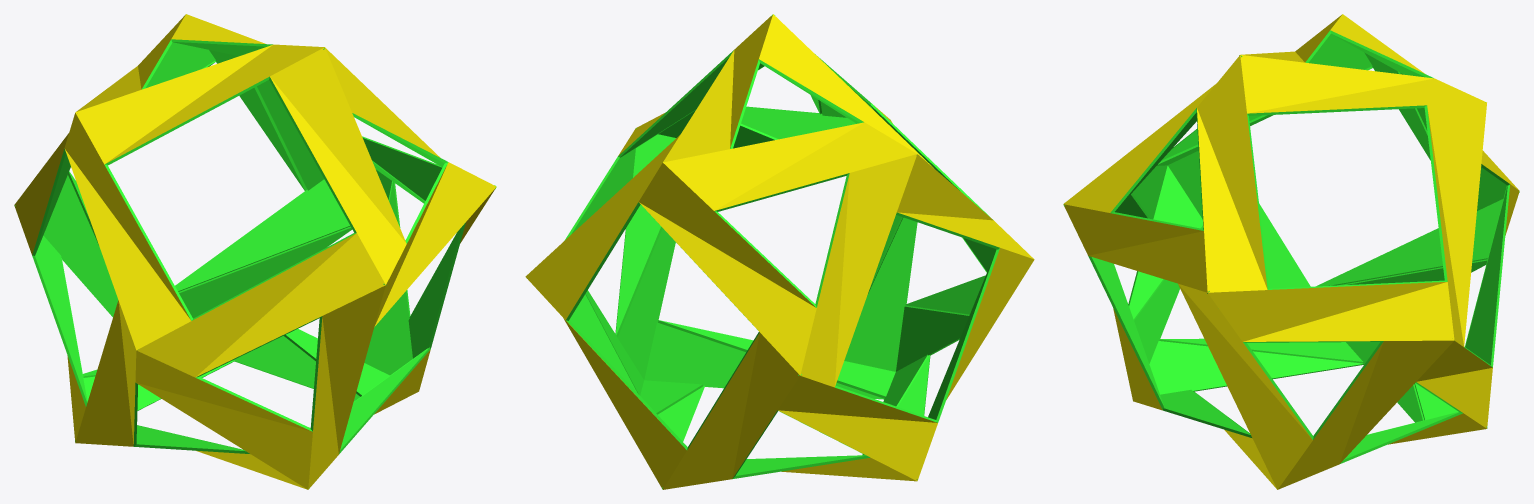
Rendered from TriangularOrthobicupola.glb.
3 views of the same model, side by side, from view 1: azimuth 30°, elevation 25°; view 2: azimuth 150°, elevation 25°; view 3: azimuth 270°, elevation 25° (orthographic).
Parts seen in each view (by area): view 1: root; view 2: root; view 3: root.
Part boxes in pixels (box(x1,y1,x2,y2)): root: box(14, 14, 496, 489); root: box(525, 14, 1034, 489); root: box(1063, 14, 1519, 489).
Bounding box in the file's own units: 7.67 × 7.41 × 8.05.
